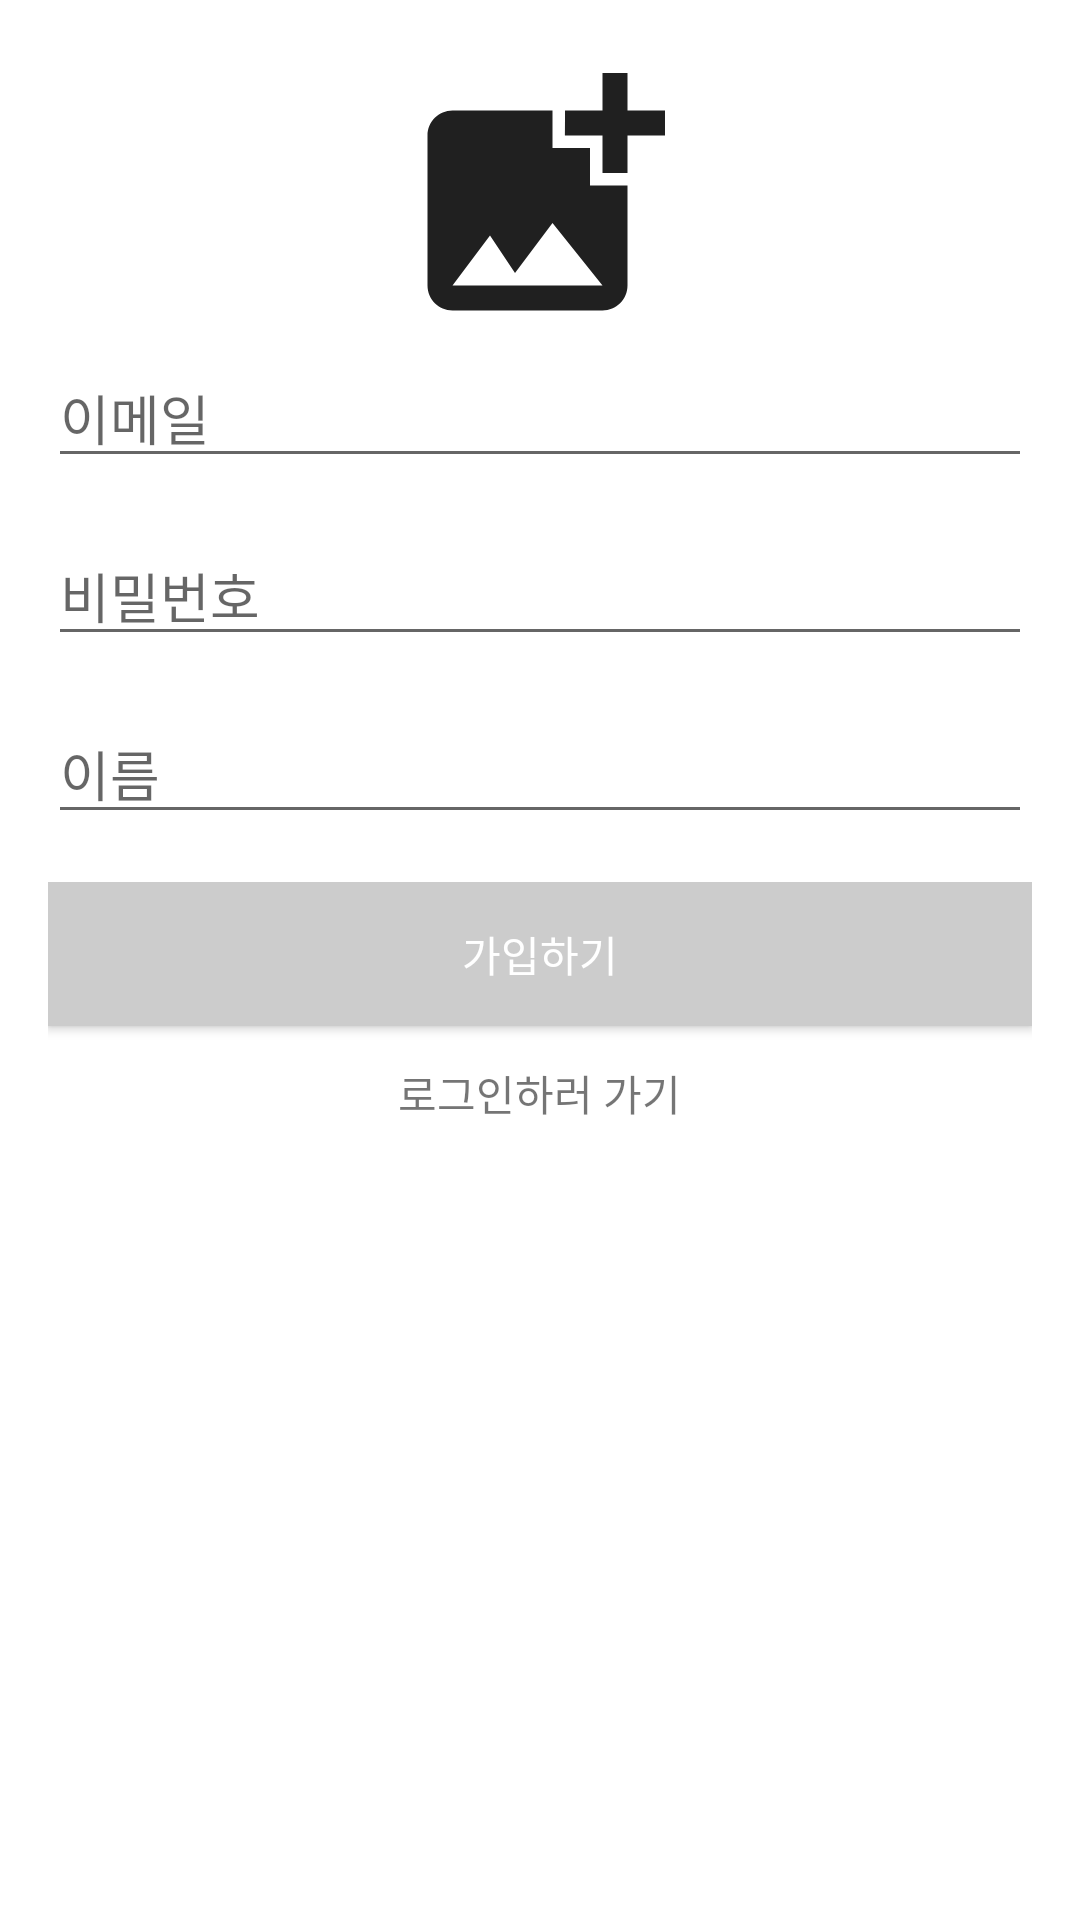

Named icons in this screenshot (1080 x 1920) and their bounding boxes, Rect(x1, y1, x2, y2):
add photo: Rect(427, 73, 665, 311)
